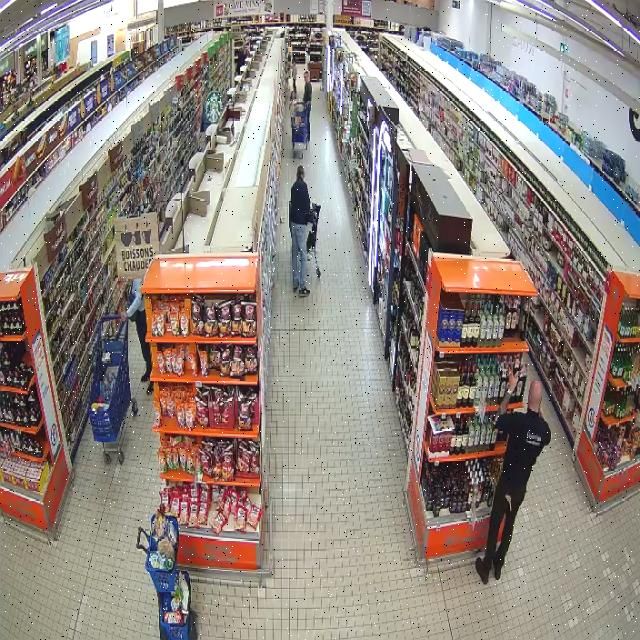hands: (508, 366, 519, 394), (120, 313, 128, 322)
person: (475, 368, 550, 583), (125, 278, 151, 381), (290, 166, 310, 296)
